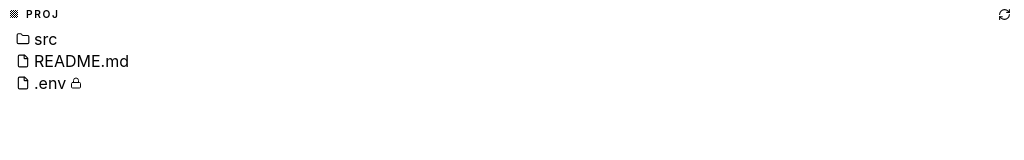
Scenario: FilesPane look (W52-m) › tints changed files from git status and collapses every open folder
Click the button "src" at x=23, y=39, box [16, 28, 1000, 50]
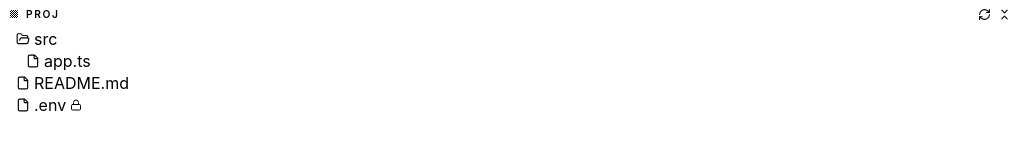
Click the button named "Collapse all" at x=1004, y=14, box [994, 4, 1014, 24]
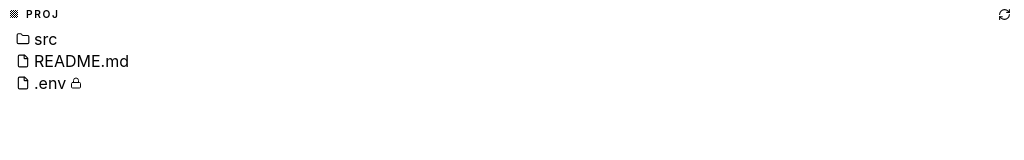
Now the button "app.ts" is gone
